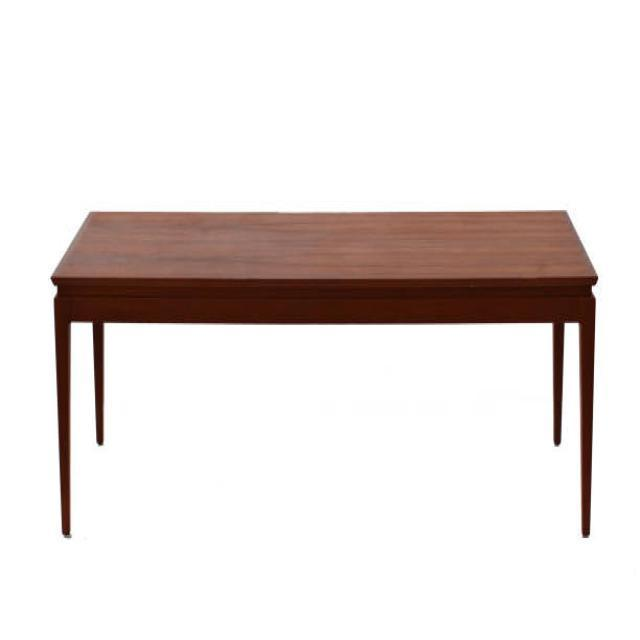table: (50, 207, 598, 540)
